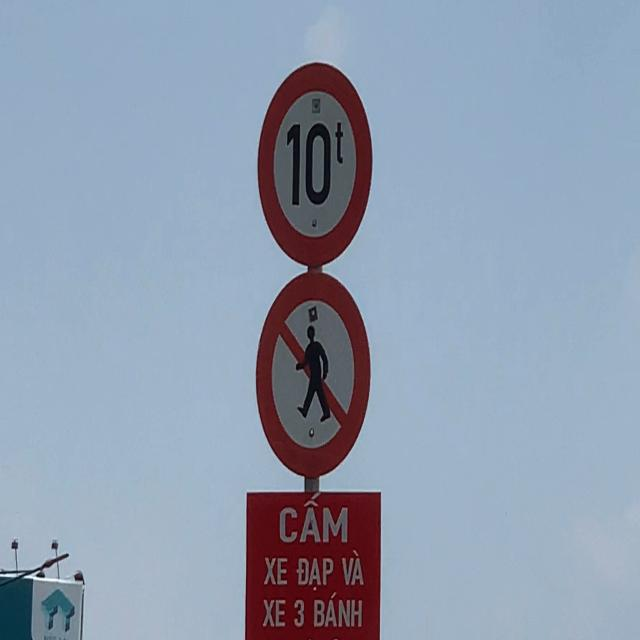Cam con lai: (248, 262, 380, 480)
Trong tai toi da: (254, 60, 378, 266)
